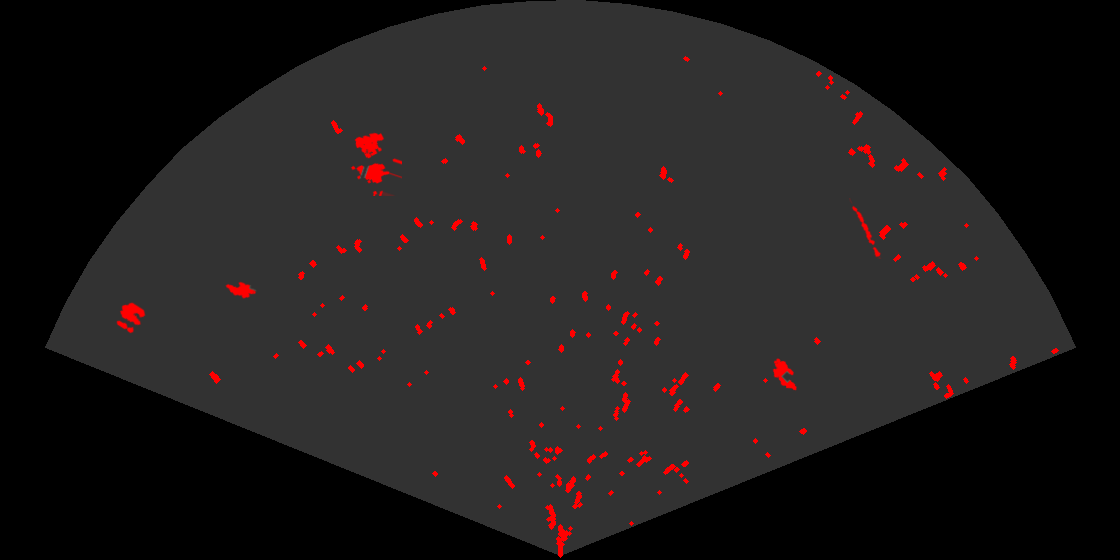AUV: (771, 357, 798, 392), (224, 280, 258, 300)
ball: (115, 301, 147, 335)
cage: (349, 131, 402, 196)
chain: (849, 198, 883, 259)
